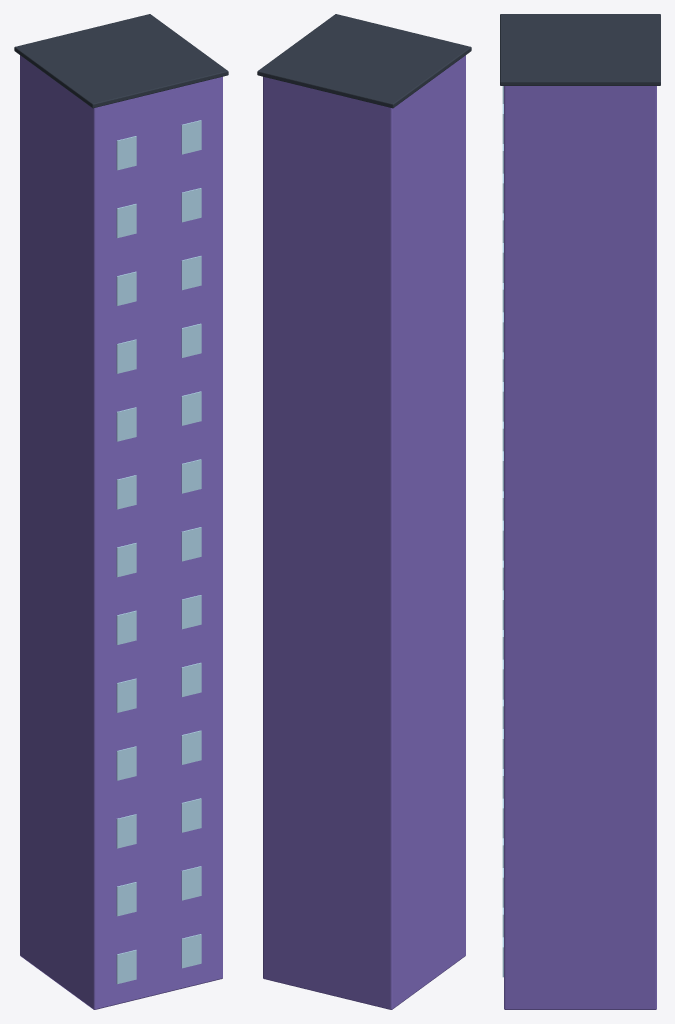
Rendered from Jumping_Tower.fbx.
3 renders of one model, left to right at view 1: azimuth 30°, elevation 25°; view 2: azimuth 150°, elevation 25°; view 3: azimuth 270°, elevation 25°, orthographic. The views are drawn at different scales.
Parts seen in each view (by area): view 1: Tower; view 2: Tower; view 3: Tower.
Boxes of the visible parts, x1=… form: Tower: x1=14, y1=14, x2=228, y2=1009; Tower: x1=257, y1=14, x2=471, y2=1009; Tower: x1=500, y1=14, x2=660, y2=1009.
Size of the model in its own units: 6.3 by 40.2 by 6.3.
